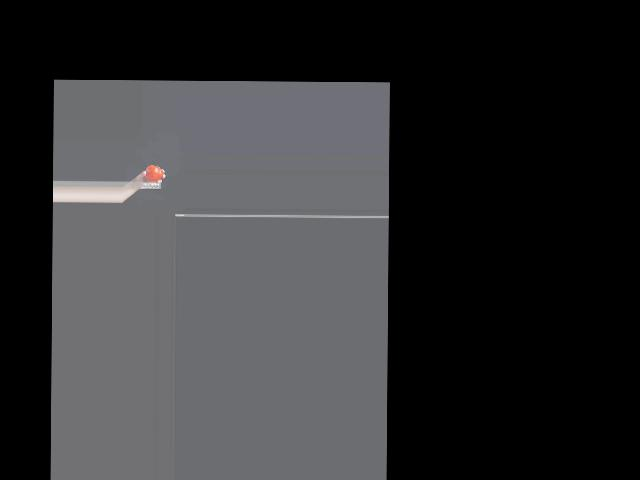tomato: (145, 164, 163, 182)
